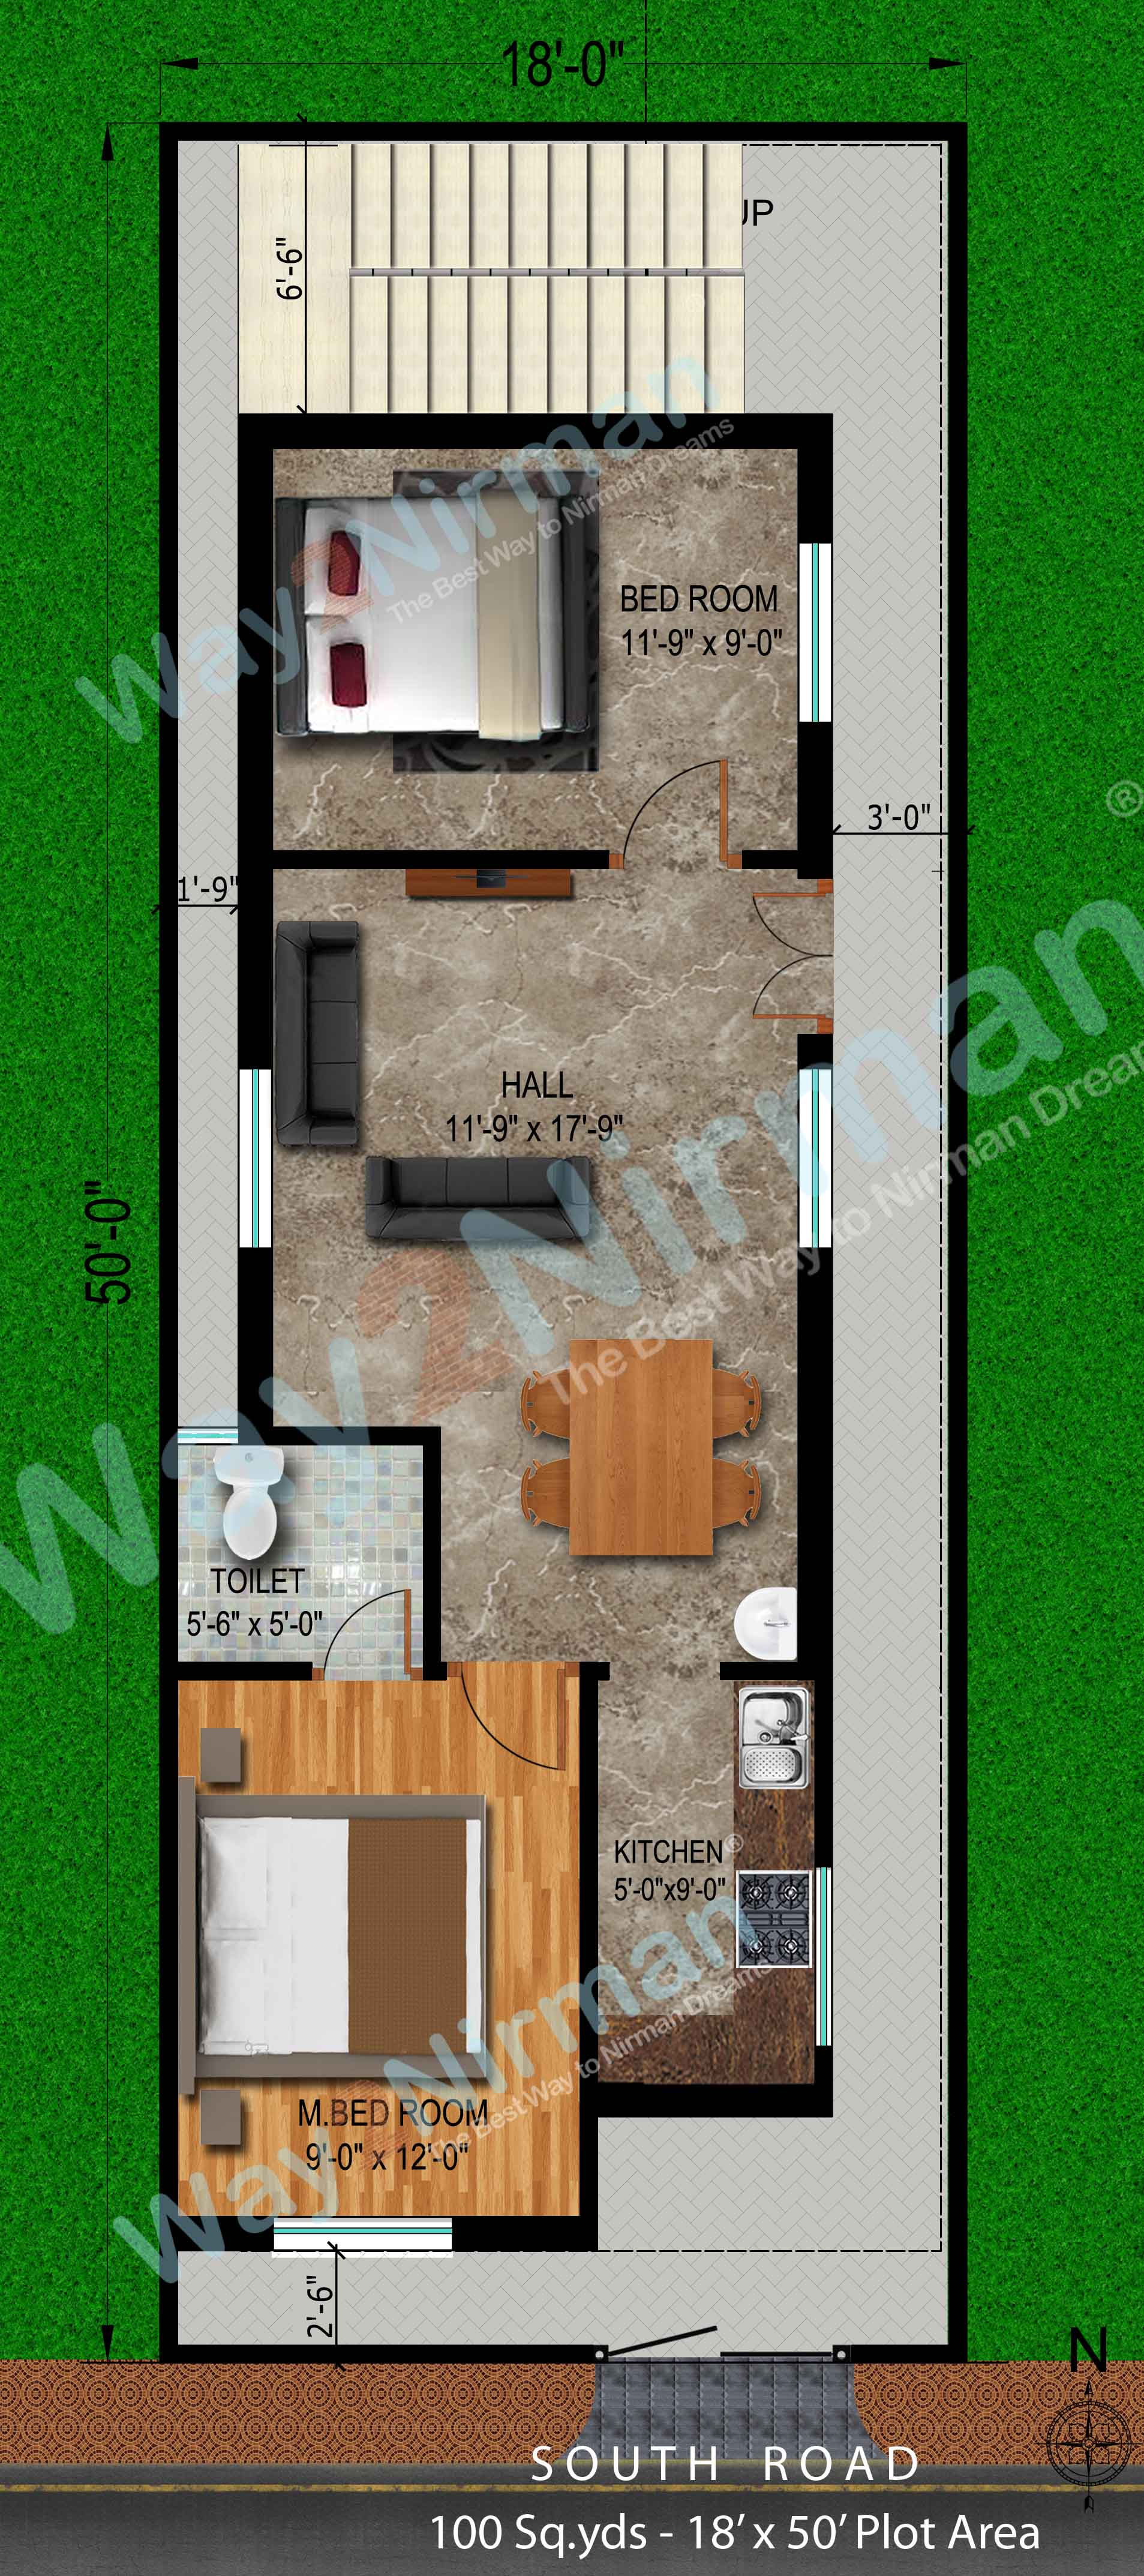window: (794, 1065, 840, 1250), (269, 2213, 456, 2256), (793, 540, 835, 724), (235, 1065, 276, 1250), (812, 1863, 835, 2049)
